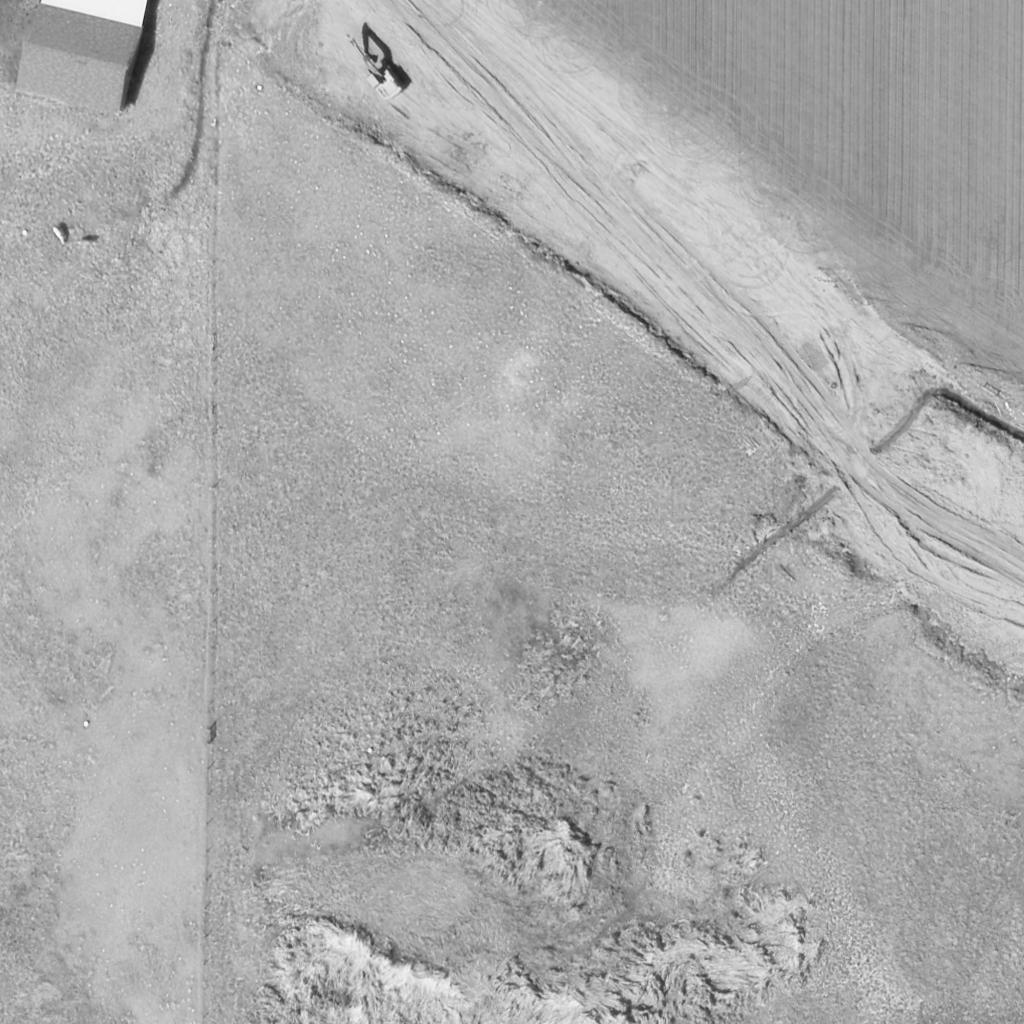vehicle: (335, 28, 407, 104)
